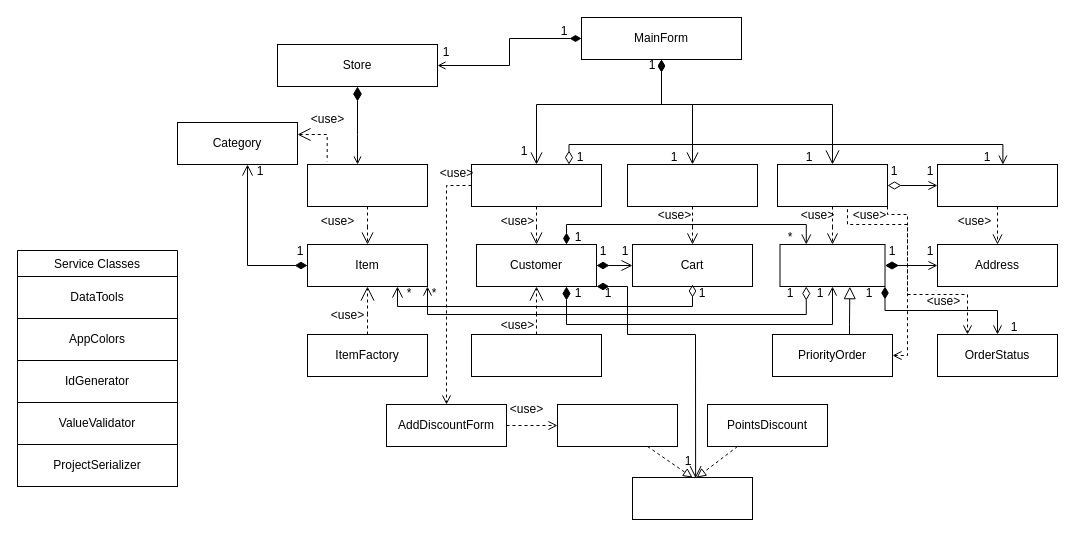
Some shapes in this 1075 by 537 pixel diagram are drawn without their labels. The centre of each missing label's shape, as x and y in pixels:
AddressControl: (x=997, y=185)
CartsTab: (x=692, y=185)
CustomerFactory: (x=536, y=355)
CustomersTab: (x=536, y=185)
IDiscount: (x=692, y=498)
ItemsTab: (x=367, y=185)
Order: (x=832, y=265)
OrdersTab: (x=832, y=185)
PercentDisoint: (x=617, y=425)
